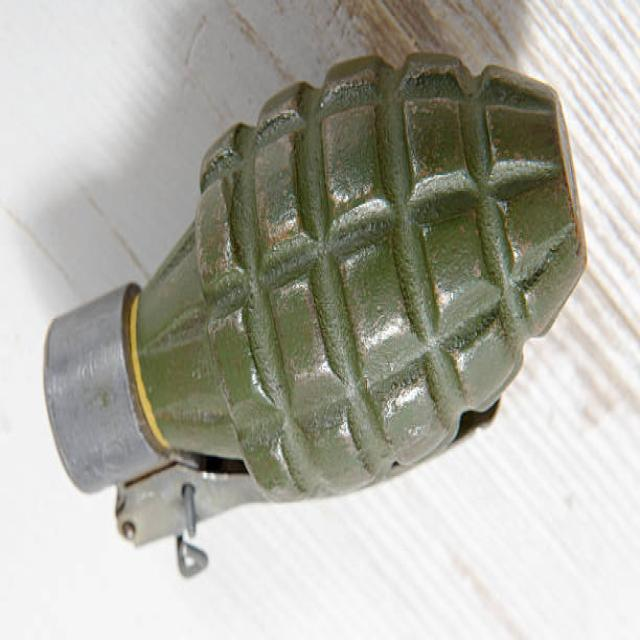grenade: (38, 49, 590, 588)
